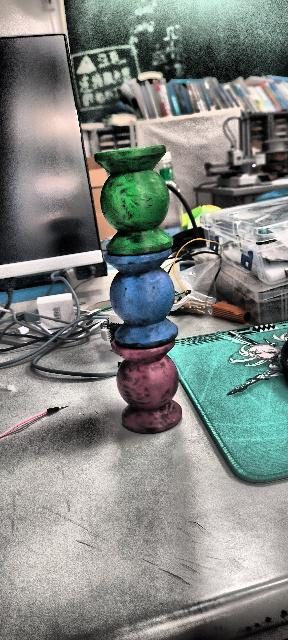blue: (103, 248, 179, 348)
green: (86, 140, 177, 258)
red: (106, 339, 189, 448)
